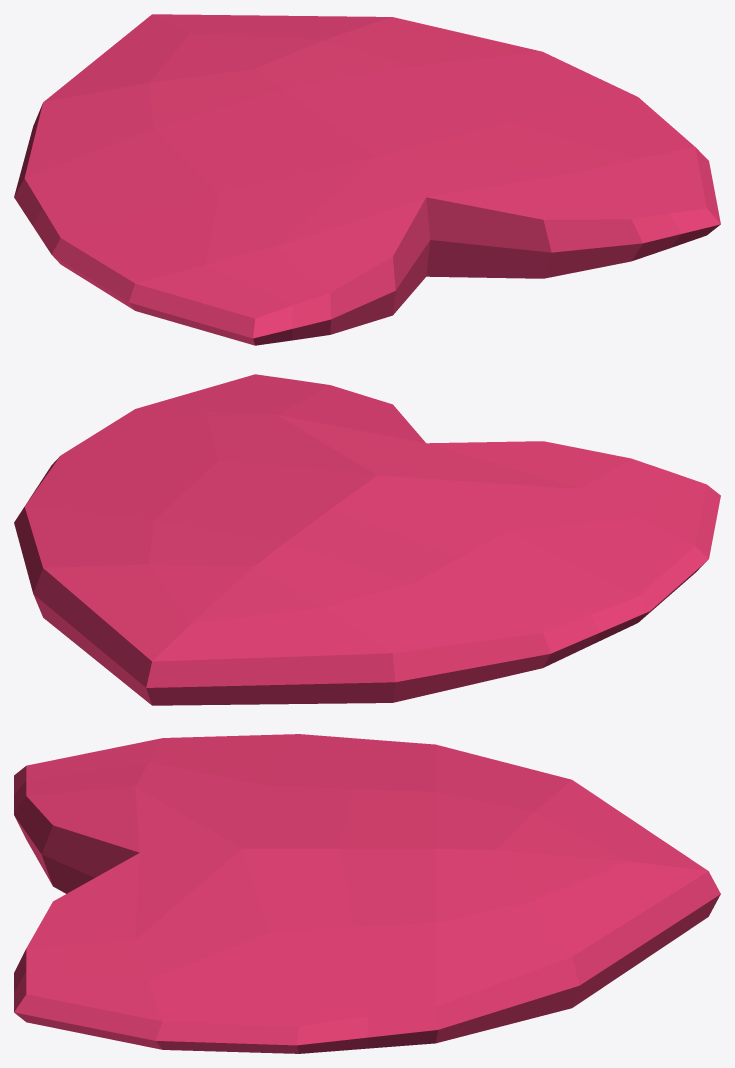
File: heart_gem.glb
3 renders of one model, top to bottom at view 1: azimuth 30°, elevation 25°; view 2: azimuth 150°, elevation 25°; view 3: azimuth 270°, elevation 25°, orthographic. The views are drawn at different scales.
Parts seen in each view (by area): view 1: Plane.001; view 2: Plane.001; view 3: Plane.001.
Part boxes in pixels (x1=…): Plane.001: x1=14, y1=14, x2=720, y2=345; Plane.001: x1=14, y1=374, x2=720, y2=705; Plane.001: x1=14, y1=734, x2=720, y2=1053.
Bounding box in the file's own units: 0.8311 × 0.1161 × 0.8199.
